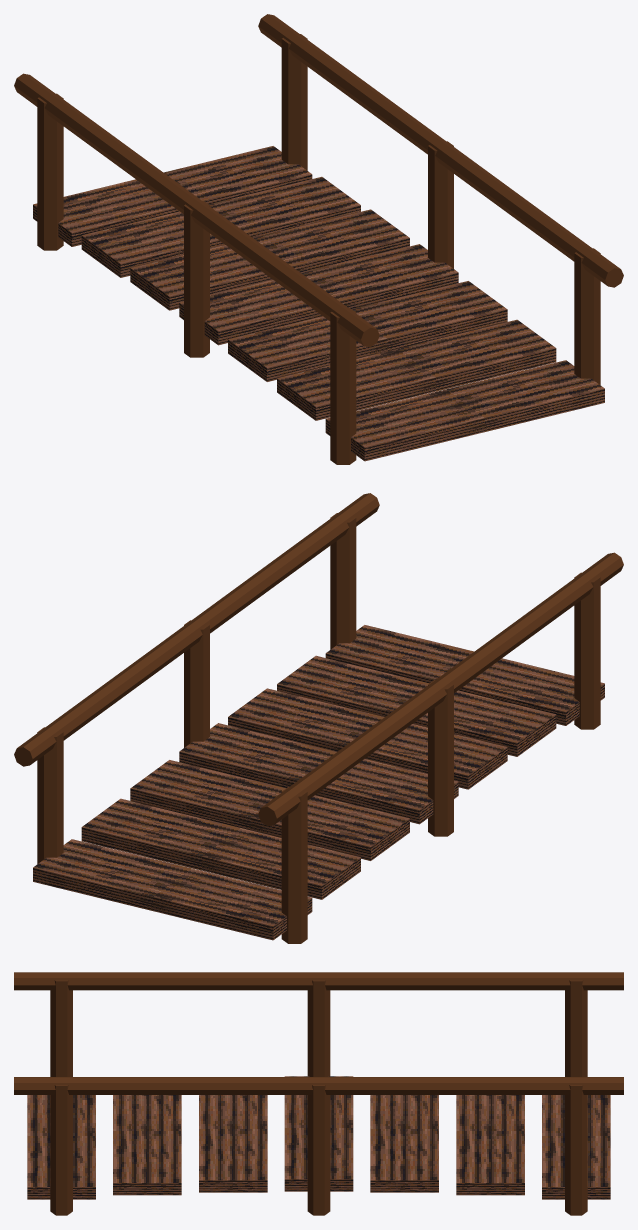
File: puente_madera.glb
3 views of the same model, one above another, from view 1: azimuth 30°, elevation 25°; view 2: azimuth 150°, elevation 25°; view 3: azimuth 270°, elevation 25° (orthographic). The views are drawn at different scales.
Parts seen in each view (by area): view 1: Cube, Cube.001, Cube.002, Cube.003, Cube.005, Cylinder.003, Cylinder.007, Cube.004, Cube.006, Cylinder.002, Cylinder, Cylinder.001 (+3 smaller); view 2: Cube.006, Cube.005, Cube.004, Cube.003, Cube.001, Cylinder.003, Cylinder.007, Cube.002, Cube, Cylinder, Cylinder.002, Cylinder.001 (+3 smaller); view 3: Cylinder.003, Cylinder.007, Cube.001, Cube.005, Cube.002, Cube.004, Cube, Cube.006, Cube.003, Cylinder.005, Cylinder.004, Cylinder.006 (+3 smaller).
Boxes of the visible parts, x1,y1,x2,y2 form: Cube: (325, 360, 604, 461); Cube.001: (277, 319, 556, 420); Cube.002: (228, 281, 507, 381); Cube.003: (179, 244, 458, 345); Cube.005: (81, 176, 360, 277); Cylinder.003: (14, 73, 379, 347); Cylinder.007: (258, 14, 623, 287); Cube.004: (130, 209, 409, 310); Cube.006: (33, 146, 312, 246); Cylinder.002: (37, 93, 63, 250); Cylinder: (330, 308, 356, 464); Cylinder.001: (184, 200, 209, 357); Cube.006: (33, 839, 312, 940); Cube.005: (81, 798, 360, 899); Cube.004: (130, 760, 409, 860); Cube.003: (179, 723, 458, 824); Cube.001: (277, 655, 556, 756); Cylinder.003: (258, 552, 623, 826); Cylinder.007: (14, 493, 379, 766); Cube.002: (228, 688, 507, 789); Cube: (325, 625, 604, 725); Cylinder: (574, 572, 600, 729); Cylinder.002: (281, 787, 307, 943); Cylinder.001: (428, 679, 453, 836); Cylinder.003: (14, 972, 623, 990); Cylinder.007: (14, 1077, 623, 1094); Cube.001: (113, 1095, 181, 1195); Cube.005: (456, 1095, 524, 1195); Cube.002: (199, 1095, 267, 1192); Cube.004: (370, 1095, 438, 1192); Cube: (27, 1095, 95, 1199); Cube.006: (542, 1095, 610, 1199); Cube.003: (284, 1076, 353, 1191); Cylinder.005: (307, 1085, 330, 1215); Cylinder.004: (50, 1085, 72, 1215); Cylinder.006: (565, 1085, 587, 1215).
Size of the model in its own units: 1.4 by 0.775 by 3.2.
2 materials, 1 textured.
